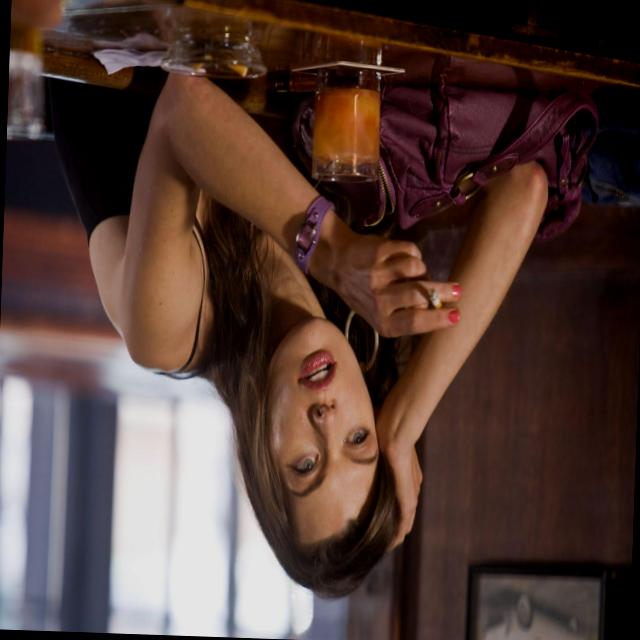cigarette: (418, 274, 456, 324)
